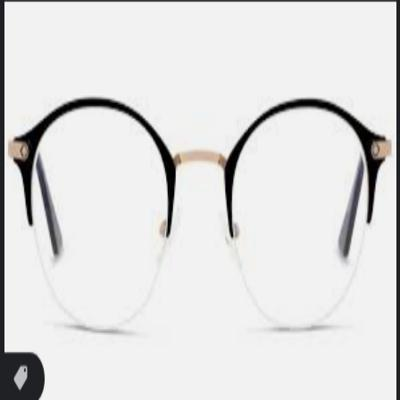glasses: (7, 94, 393, 346)
